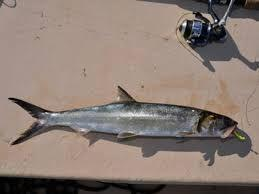Tenpounder: (4, 86, 243, 149)
